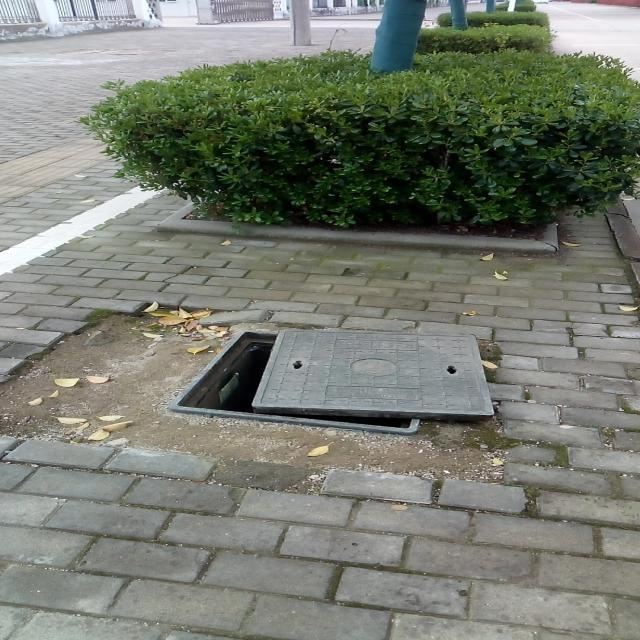Faulty: (169, 326, 498, 432)
